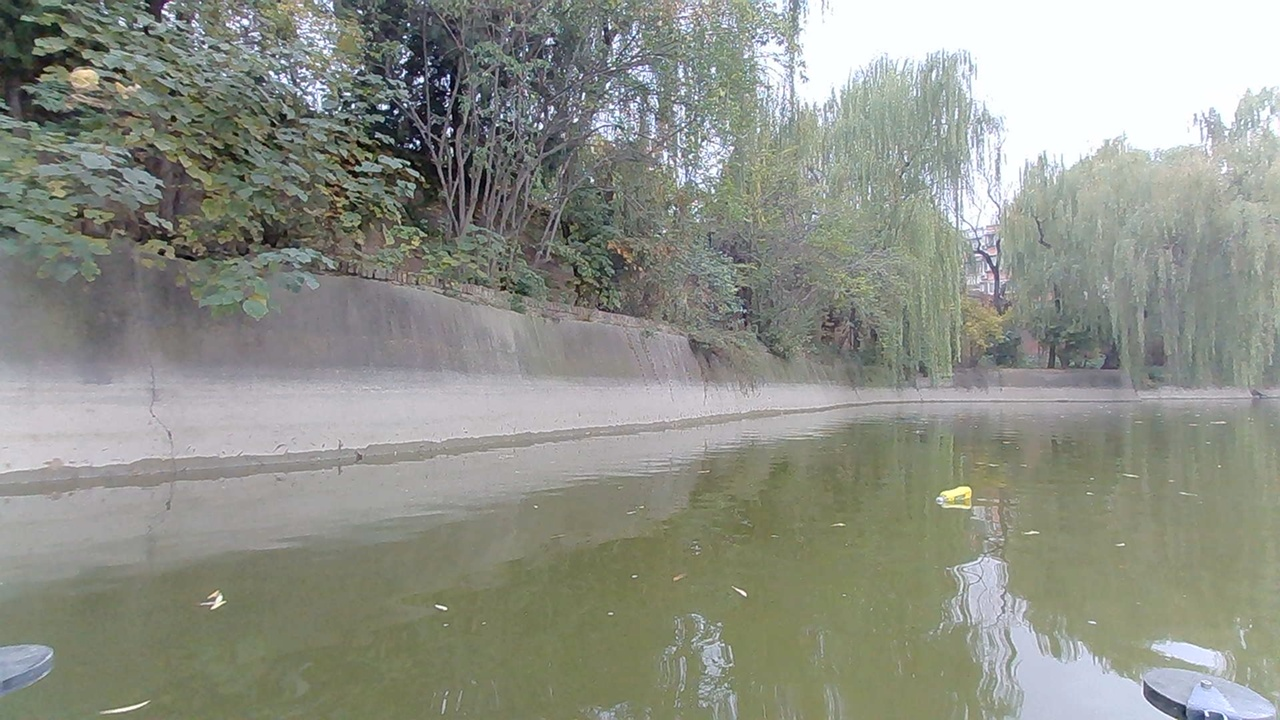bottle: (943, 486, 977, 509)
